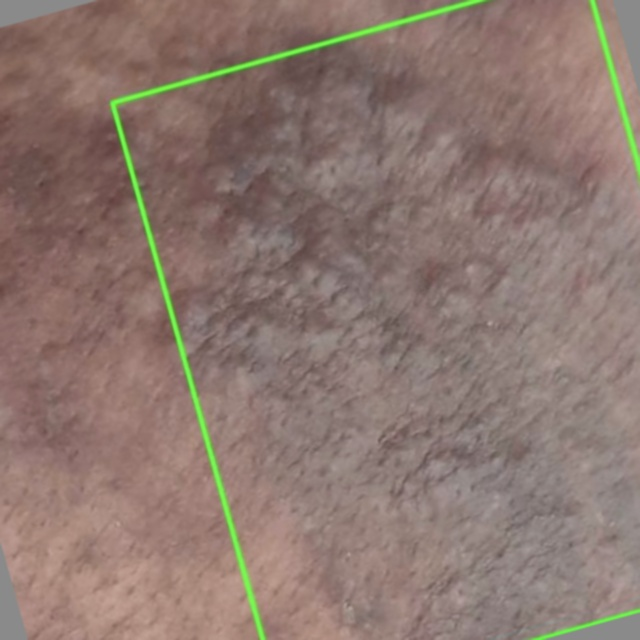Tinea Corporis: (112, 0, 639, 639)
